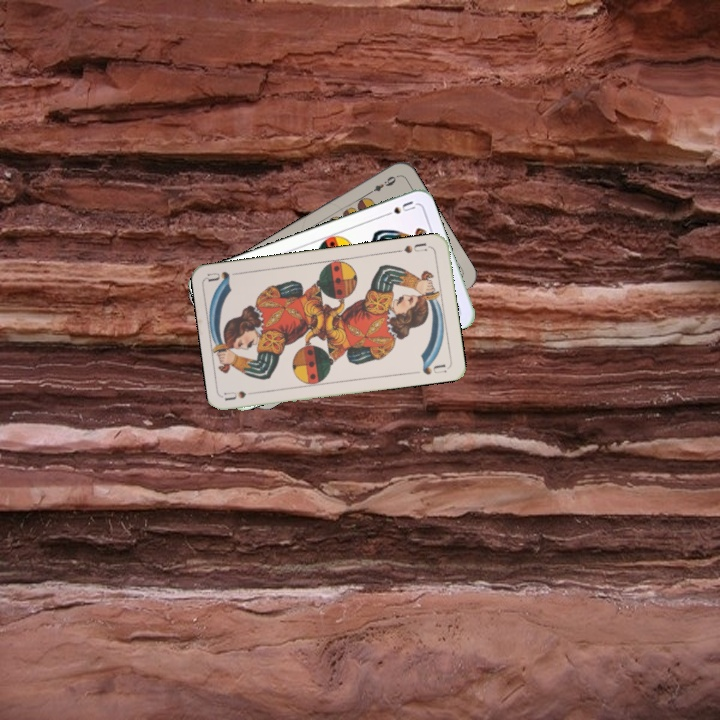E9: (363, 172, 399, 197)
SU: (379, 197, 418, 220), (393, 239, 429, 256), (221, 387, 249, 403)
